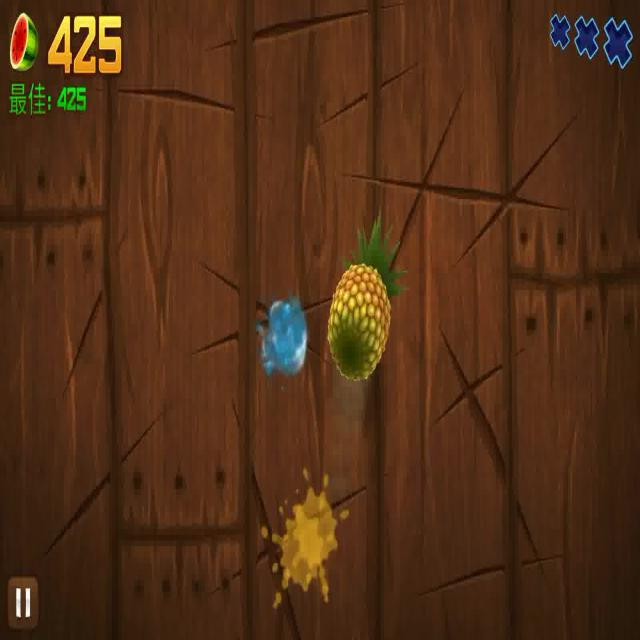fruit: (325, 214, 397, 378)
